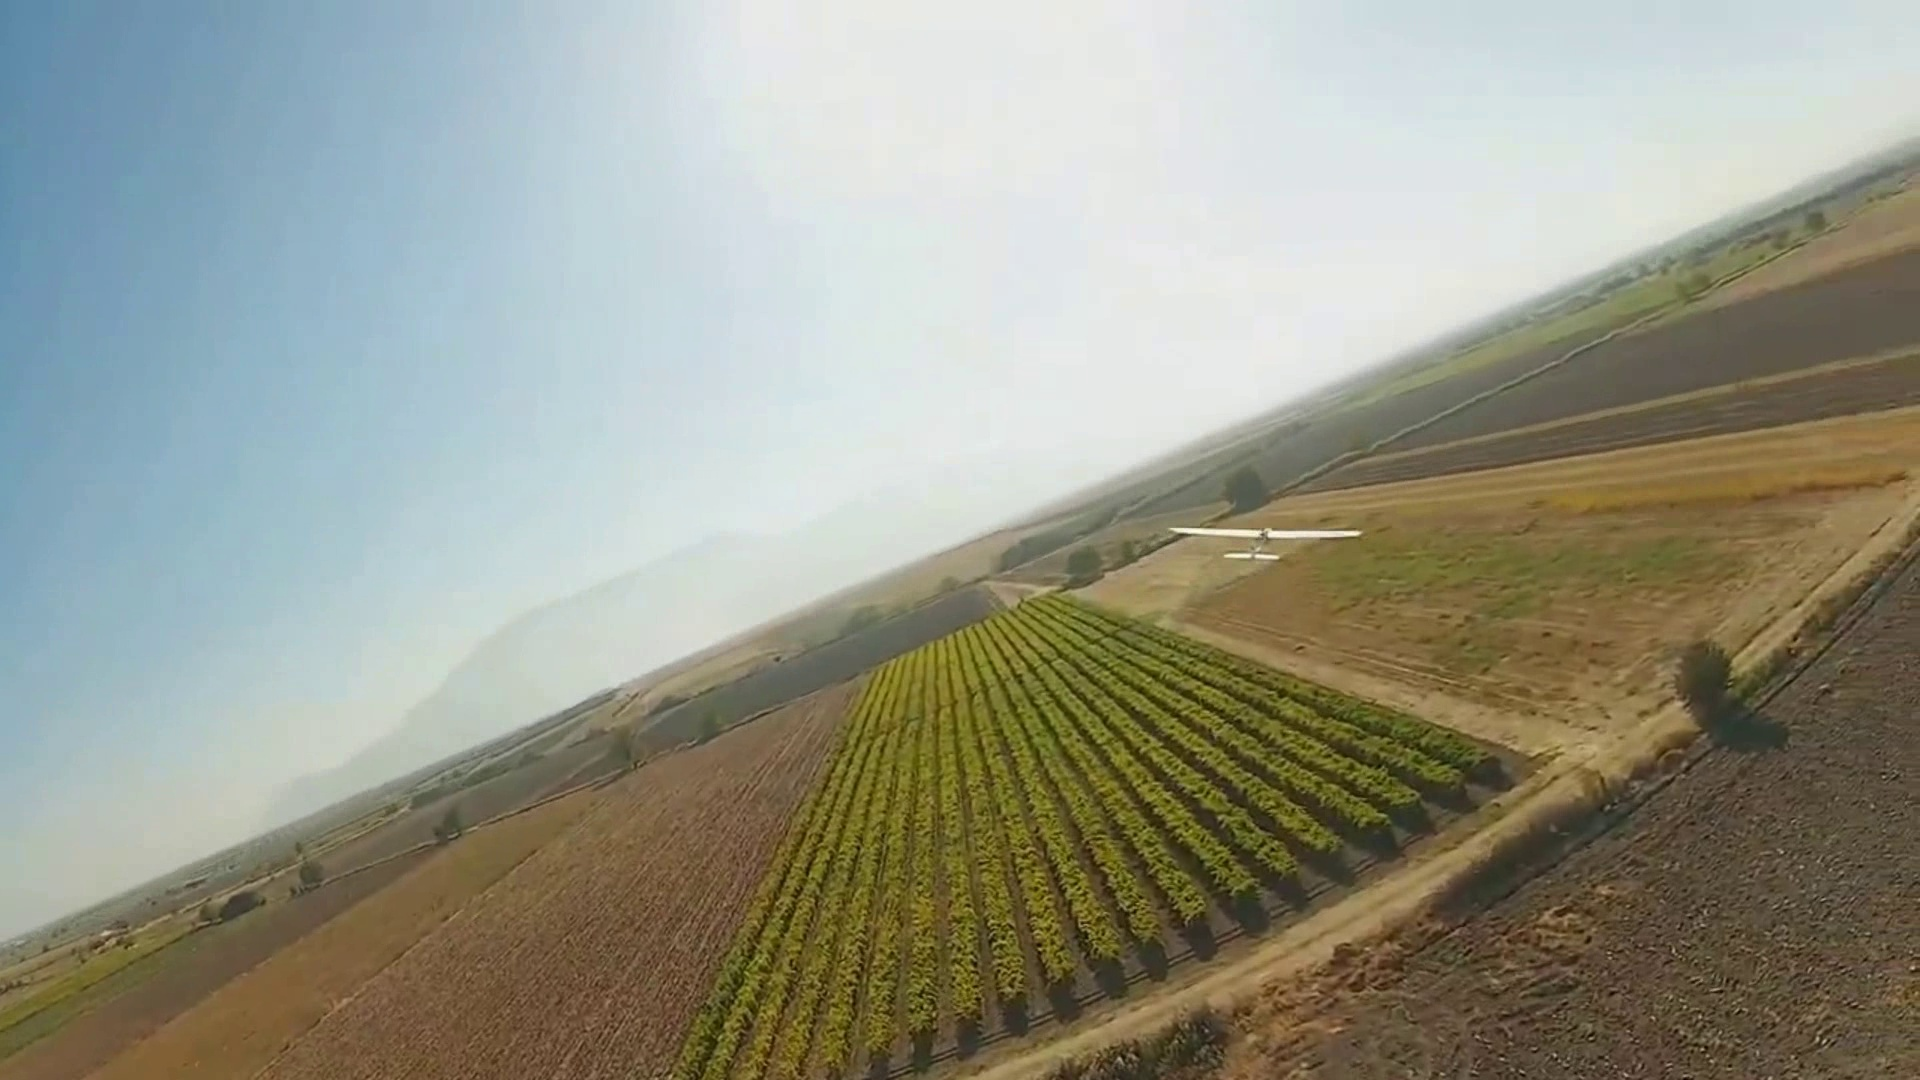airplane: (30, 123, 1920, 1046)
